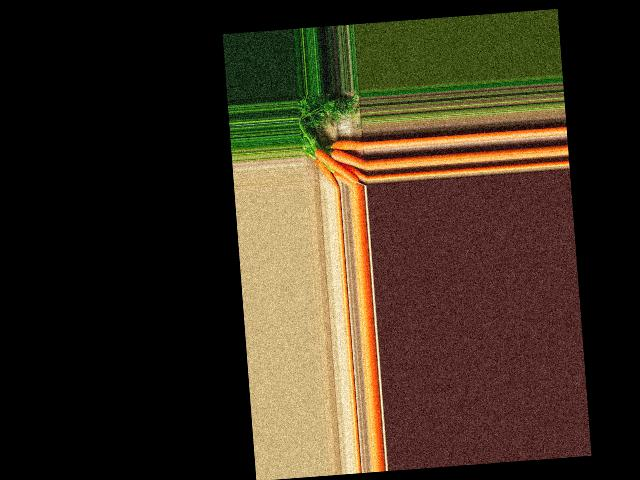carrot: (332, 168, 356, 171)
